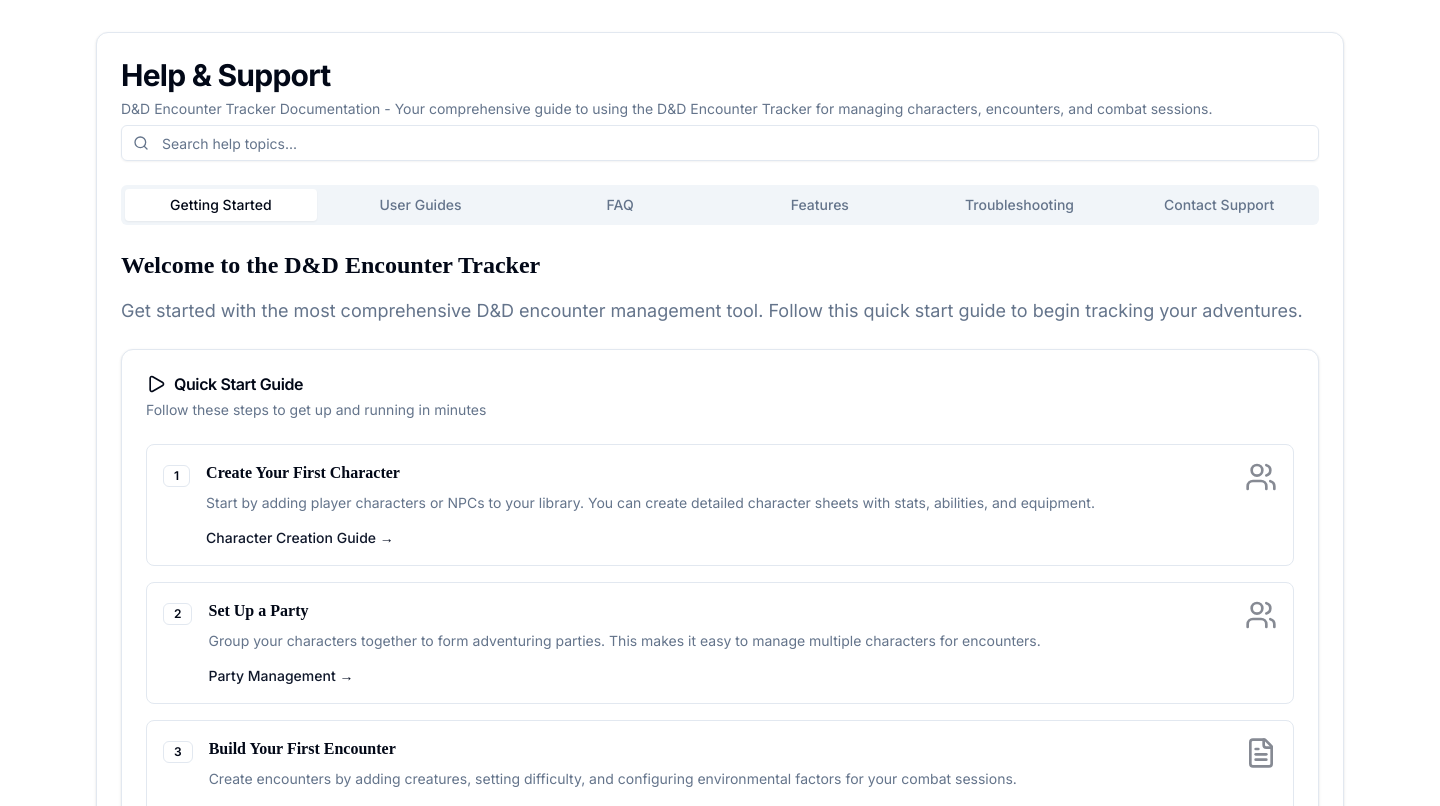
Scenario: HelpPage Component › User Guides Section › includes step-by-step tutorials
The image size is (1440, 806).
Step 1. Click the tab "User Guides" → (421, 205), box [325, 189, 516, 221]
(page scrolled)
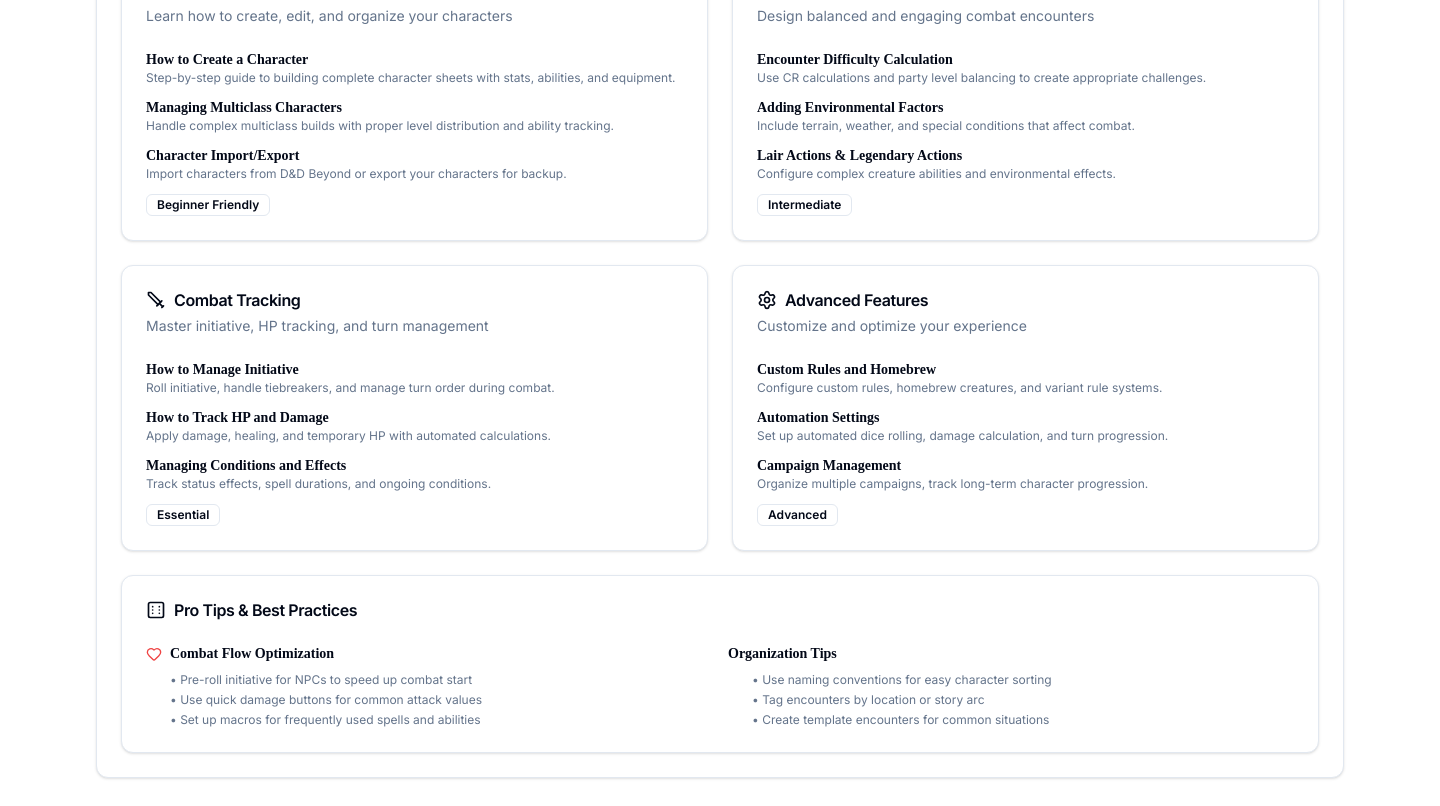
Check: the heading "How to Create a Character" is shown, box [146, 52, 308, 67]
Check: the heading "How to Manage Initiative" is shown, box [146, 362, 299, 377]
Check: the heading "How to Track HP and Damage" is shown, box [146, 410, 329, 425]
